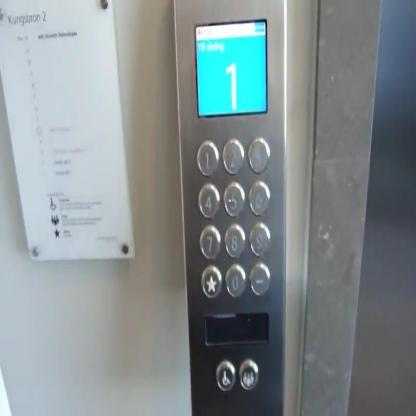-: (248, 262, 270, 296)
0: (225, 263, 246, 297)
1: (196, 139, 218, 176)
2: (222, 138, 244, 174)
4: (197, 183, 220, 218)
5: (222, 181, 244, 216)
6: (248, 180, 270, 215)
7: (198, 223, 221, 258)
8: (224, 224, 245, 258)
9: (248, 222, 270, 257)
CH: (215, 358, 235, 393)
blur: (248, 136, 270, 174)
led: (194, 18, 268, 117), (203, 311, 269, 345)
s: (200, 264, 222, 298)
unknown: (238, 358, 258, 391)
